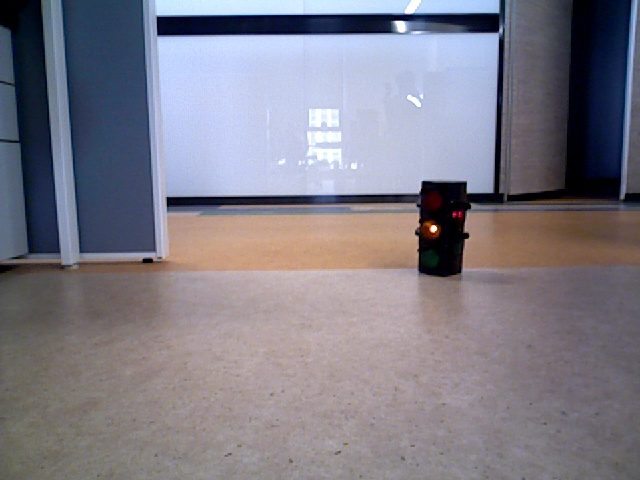yellow: (420, 182, 465, 275)
